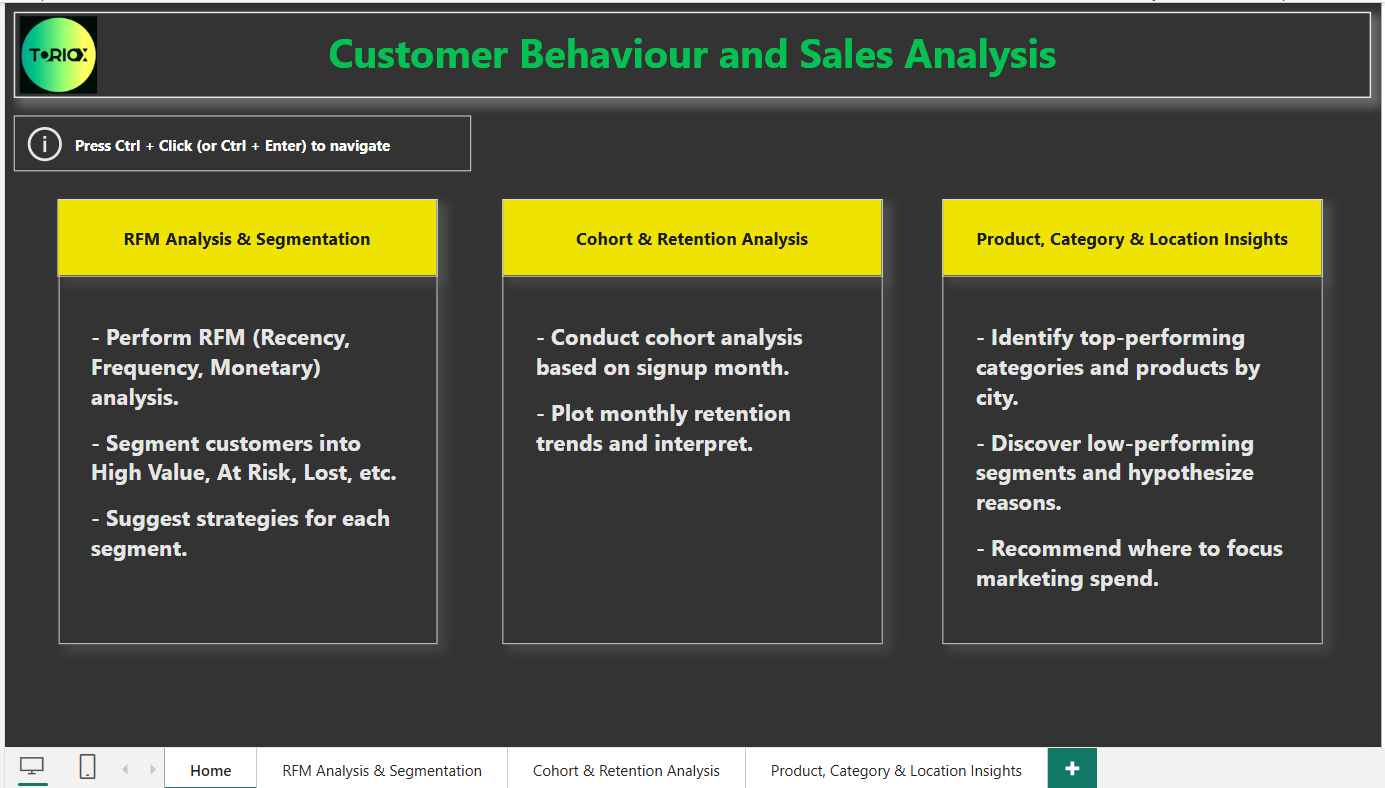

This screenshot's page, from the dashboard's own definition file:
{"tool":"powerbi","page":{"name":"Home","canvas":[1480,800],"ordinal":0},"visuals":[{"type":"shape","box":[9.4,120.6,492,60.3],"z":0},{"type":"shape","box":[57.8,211.1,407.4,478.6],"z":1000},{"type":"shape","box":[9.6,9.6,1460.3,93.2],"z":2000},{"type":"textbox","box":[235.6,19.2,1008.2,72.6],"z":3000},{"type":"image","box":[9.6,9.6,95.9,93.2],"z":4000},{"type":"shape","box":[535.1,211.1,408.7,478.6],"z":5000},{"type":"shape","box":[1008.4,211.1,408.7,478.6],"z":6000},{"type":"pageNavigator","box":[56.5,211.1,408.7,83.4],"z":7000},{"type":"pageNavigator","box":[535.1,211.1,408.7,83.4],"z":8000},{"type":"pageNavigator","box":[1008.4,211.1,408.7,83.4],"z":9000},{"type":"textbox","box":[87.4,337.5,346.9,303.9],"z":10000},{"type":"textbox","box":[566,337.5,346.9,303.9],"z":11000},{"type":"textbox","box":[1039.3,337.5,346.9,303.9],"z":12000},{"type":"textbox","box":[69.7,136.7,408.8,38.9],"z":13000},{"type":"actionButton","box":[18.8,127.3,100.5,48.3],"z":14000}]}

Visuals, with their boxes on the page's 1480x800 design canvas (x1, y1, x2, y2). These are canvas units, not pixel positions in the 1385x788 screenshot, which may show the page scaled, cropped or inside an application window:
shape: [9, 121, 501, 181]
shape: [58, 211, 465, 690]
shape: [10, 10, 1470, 103]
textbox: [236, 19, 1244, 92]
image: [10, 10, 106, 103]
shape: [535, 211, 944, 690]
shape: [1008, 211, 1417, 690]
pageNavigator: [56, 211, 465, 294]
pageNavigator: [535, 211, 944, 294]
pageNavigator: [1008, 211, 1417, 294]
textbox: [87, 338, 434, 641]
textbox: [566, 338, 913, 641]
textbox: [1039, 338, 1386, 641]
textbox: [70, 137, 478, 176]
actionButton: [19, 127, 119, 176]
